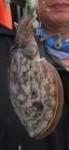Cephalopod: (6, 9, 64, 139)
